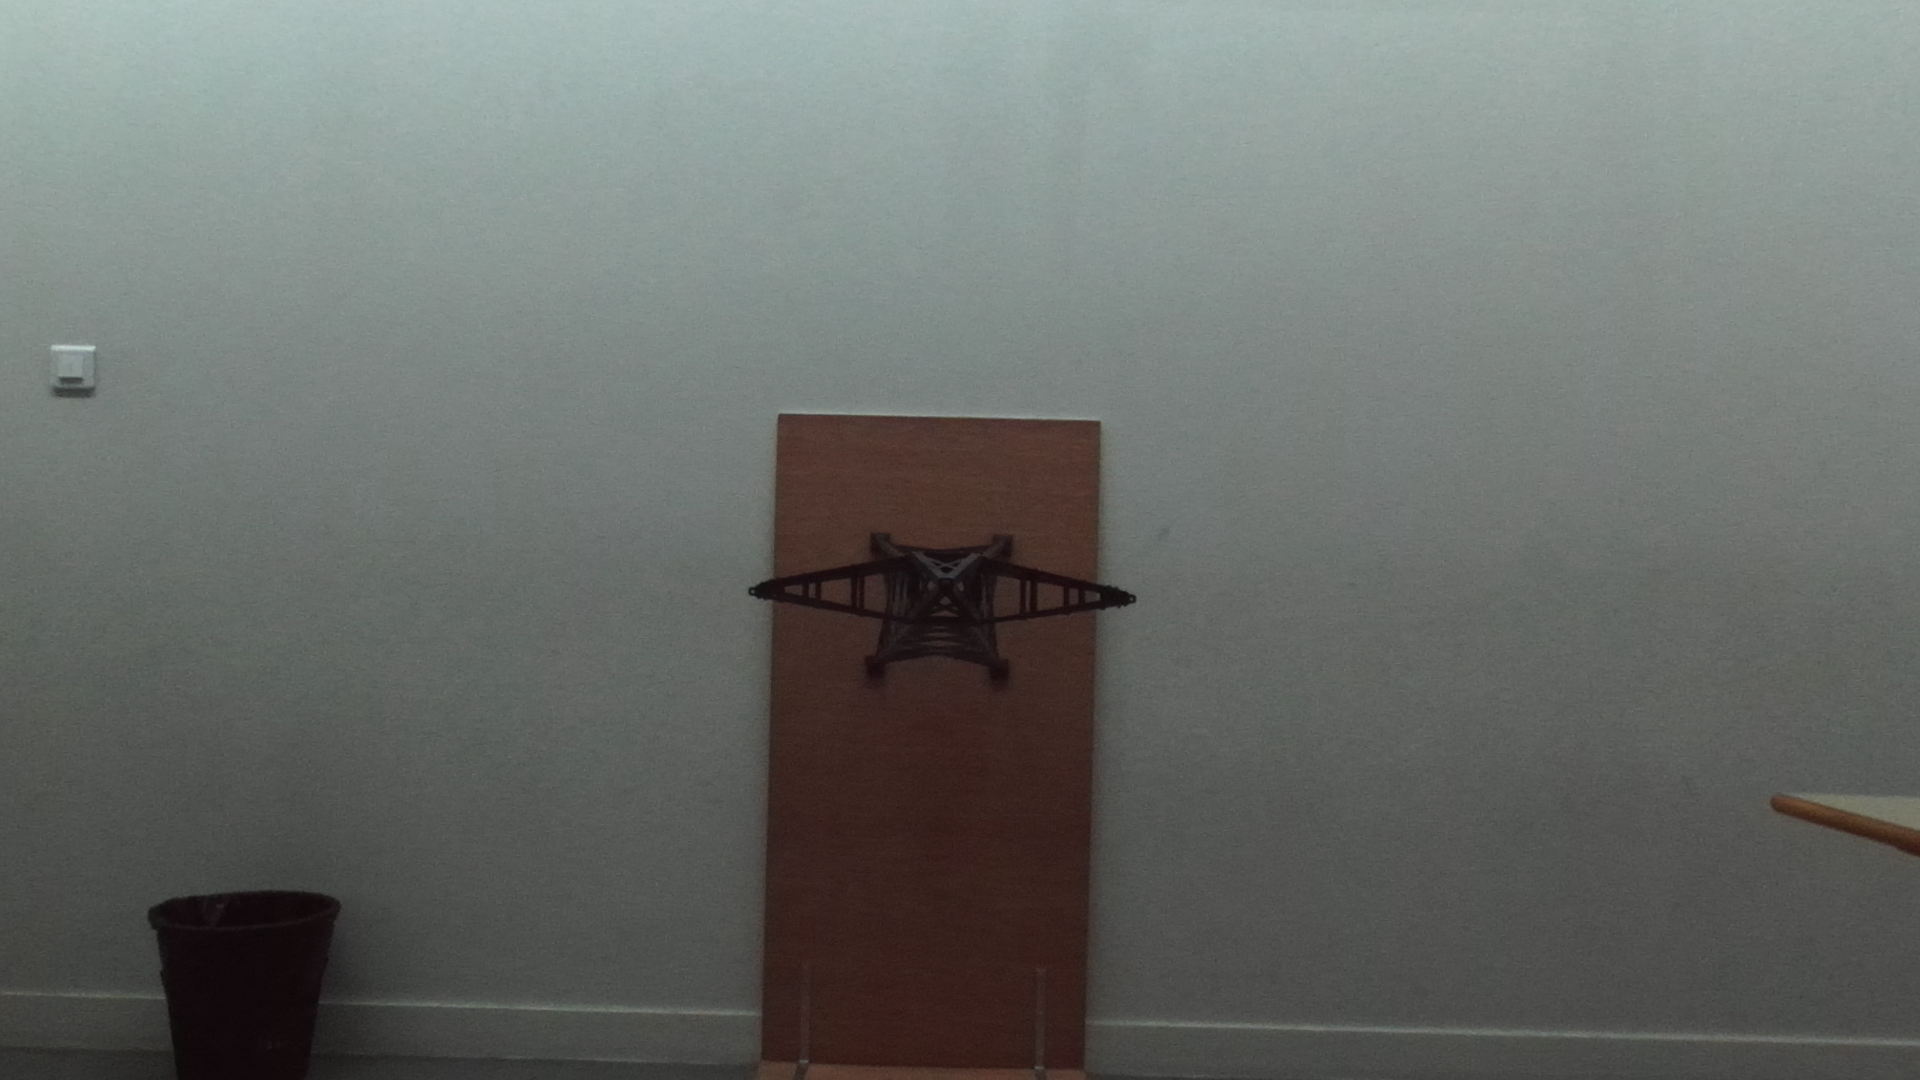pylon_phy: (753, 553, 1138, 622)
